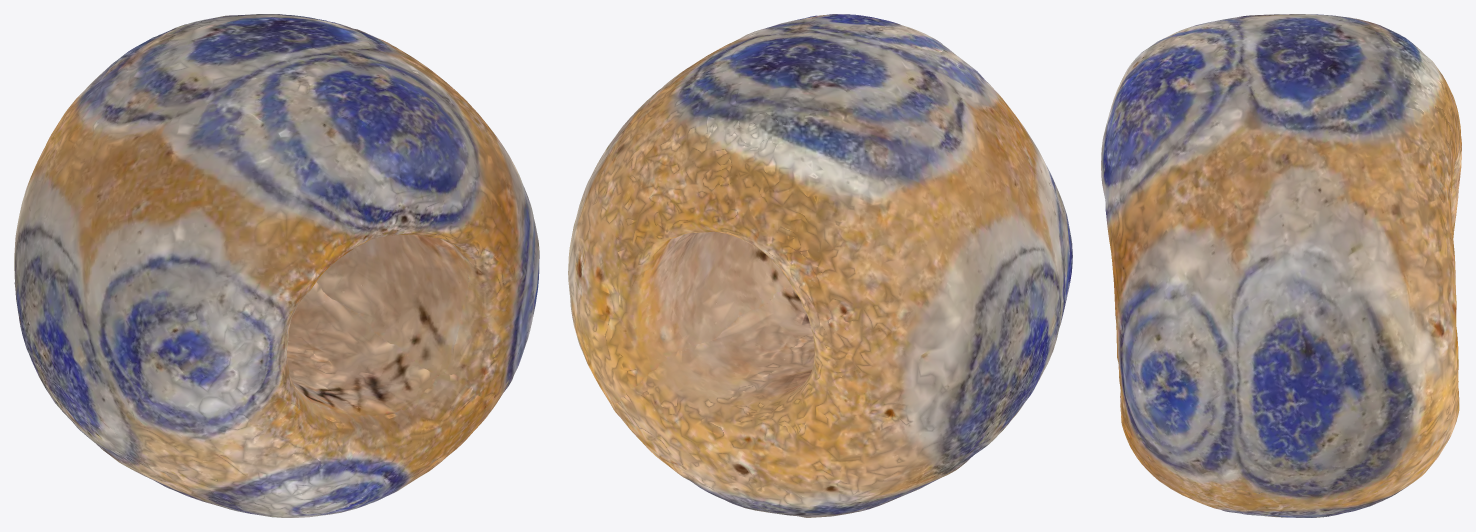
The model's file is celtbead.glb.
3 views of the same model, side by side, from view 1: azimuth 30°, elevation 25°; view 2: azimuth 150°, elevation 25°; view 3: azimuth 270°, elevation 25° (orthographic). The views are drawn at different scales.
Visible parts, largest first — view 1: Object_2; view 2: Object_2; view 3: Object_2.
Part boxes in pixels (x1=…): Object_2: x1=14, y1=14, x2=539, y2=517; Object_2: x1=568, y1=14, x2=1072, y2=517; Object_2: x1=1101, y1=14, x2=1461, y2=517.
Size of the model in its own units: 0.0328 by 0.0321 by 0.0236.
1 material, 1 textured.
